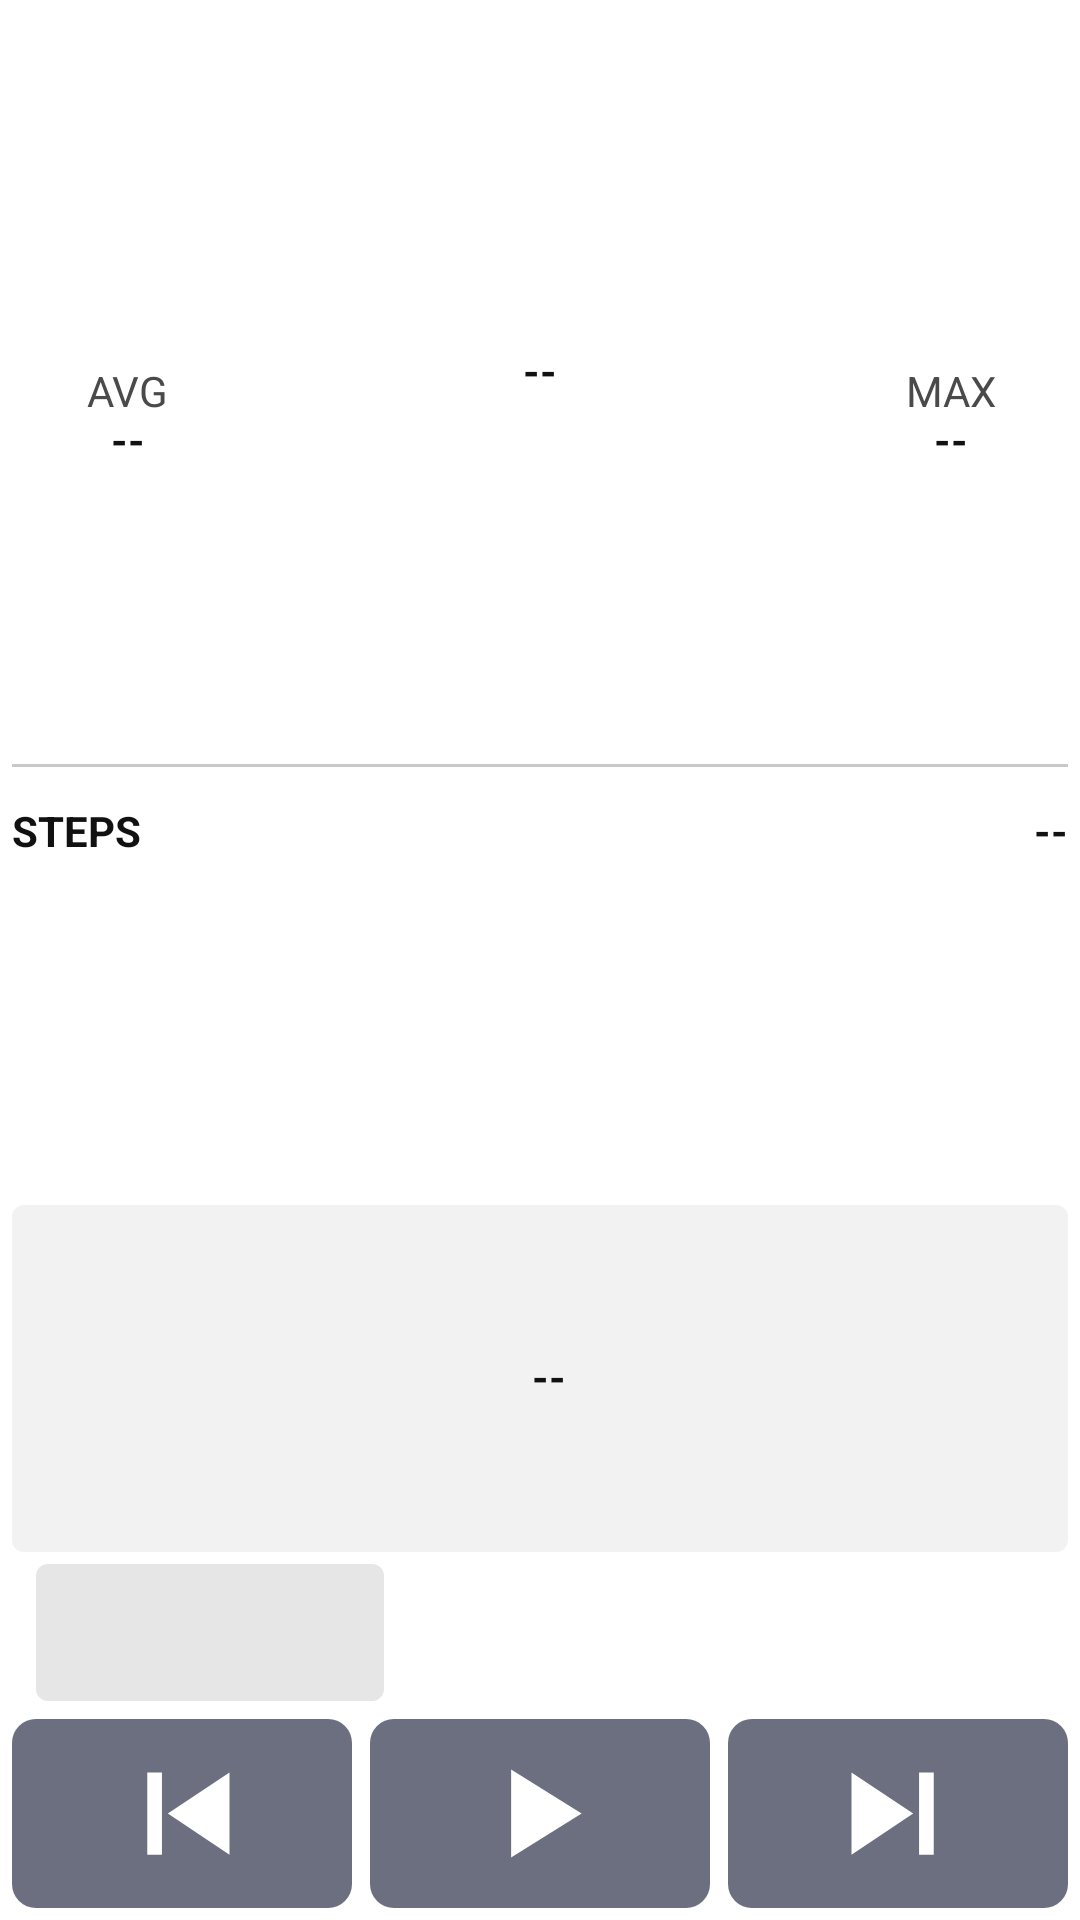

Icons on this 1080x1920 Android screen, each with its box as [x1,y1,x2,y2]:
Next step: [728,1719,1068,1908]
Previous step: [12,1719,352,1908]
Start or pause: [370,1719,710,1908]
